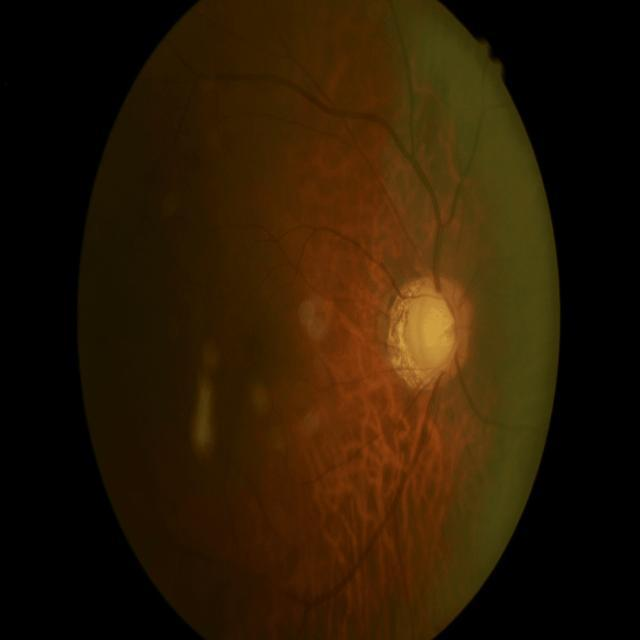cup: (408, 292, 459, 371)
disk: (404, 278, 470, 383)
